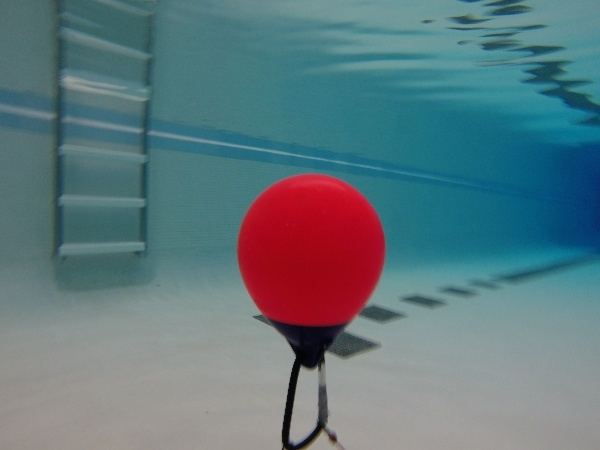buoy_red: (234, 169, 385, 374)
